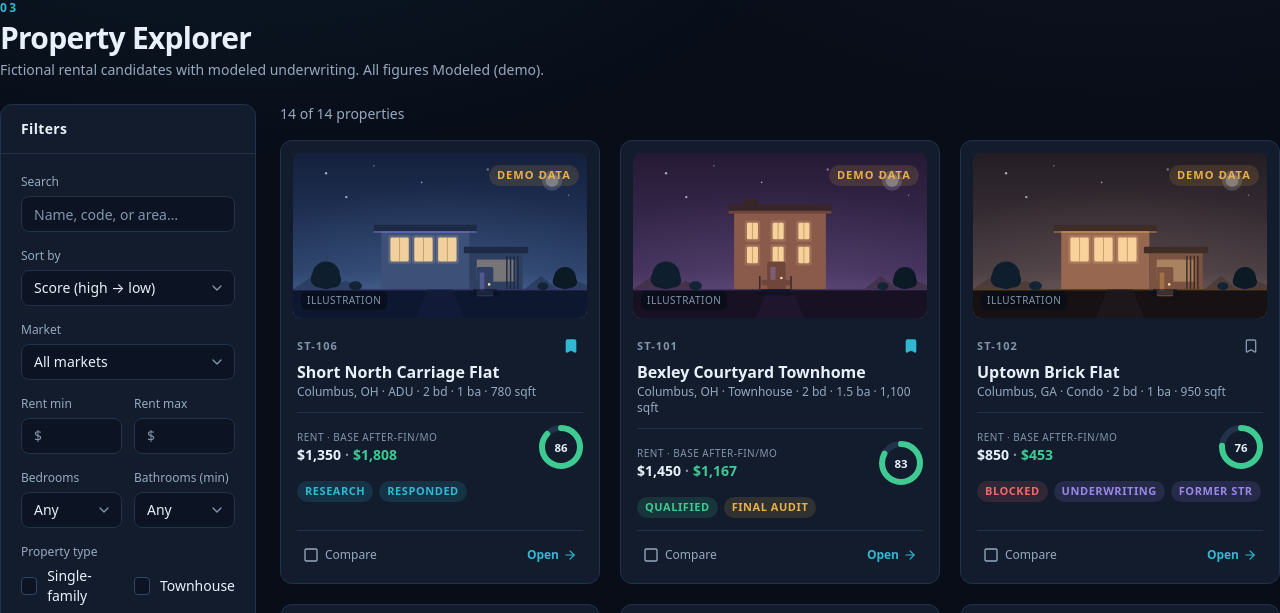
Test: Property Explorer › shows the empty state for an impossible filter
Type "zzz-no-such-place" into the field labelled "Search" at (128, 214), box [21, 196, 235, 232]
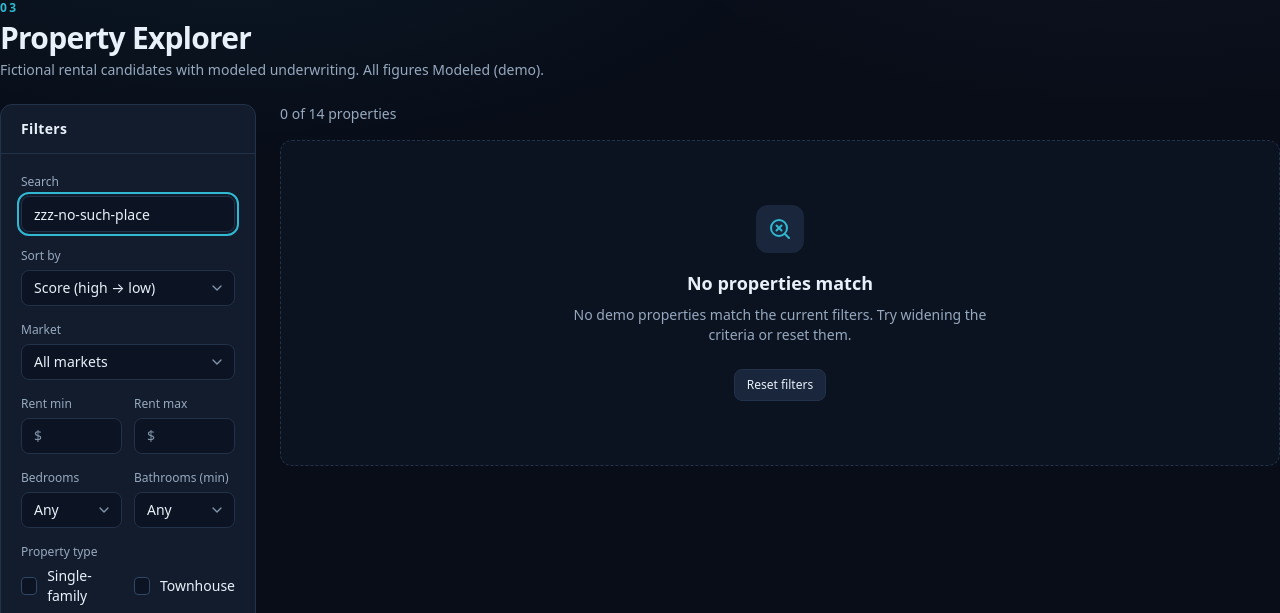
expect the heading "No properties match" is shown: met, box [687, 269, 873, 297]
